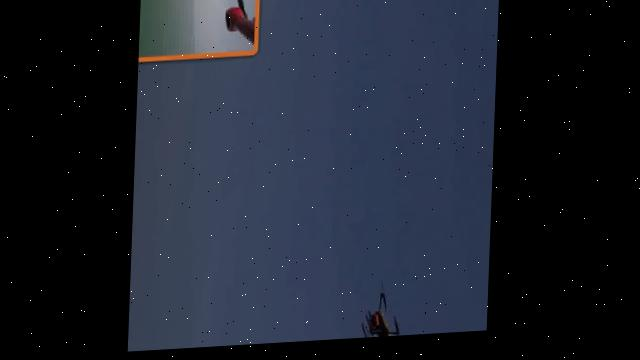drone: (354, 282, 412, 343)
